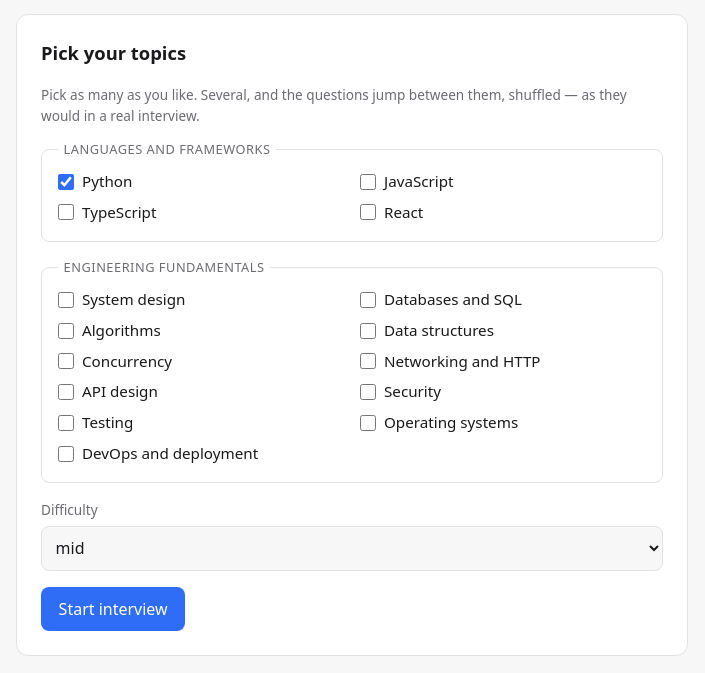
Test case: answering › submits the answer and shows the grade
(page scrolled)
Click the button "Start interview" at (113, 609), box [41,587,185,631]
(page scrolled)
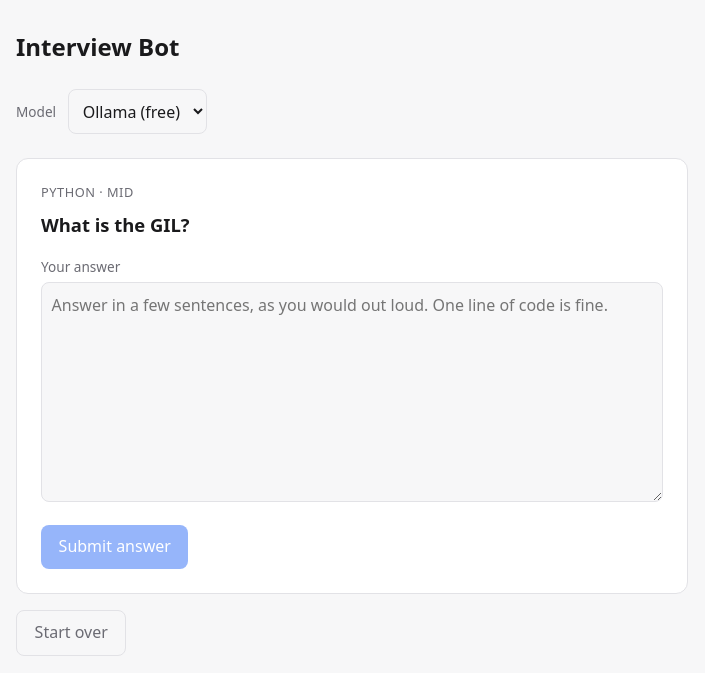
Check: the heading "What is the GIL?" is shown, box [41,212,190,237]
Type "It is a mutex." into the text box labelled "Your answer" at (352, 392), box [41,282,663,502]
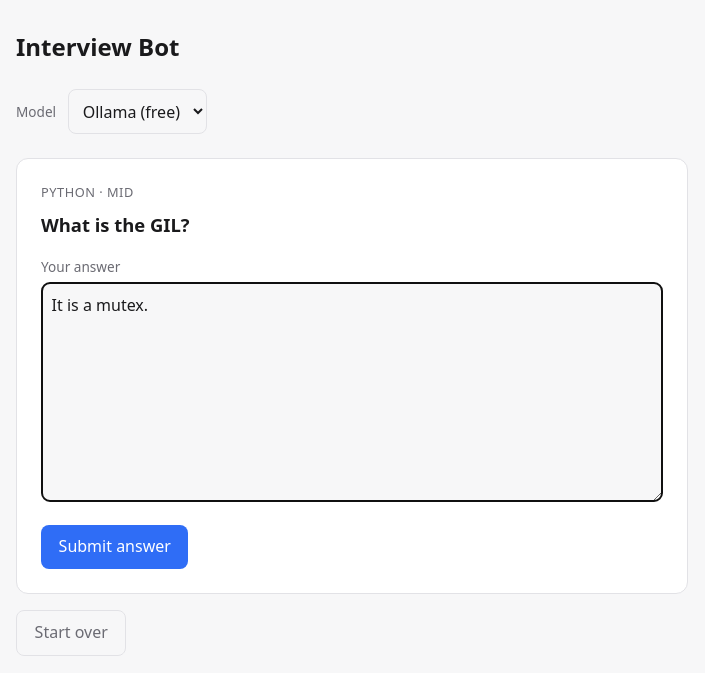
Click the button "Submit answer" at (115, 547), box [41,525,188,569]
(page scrolled)
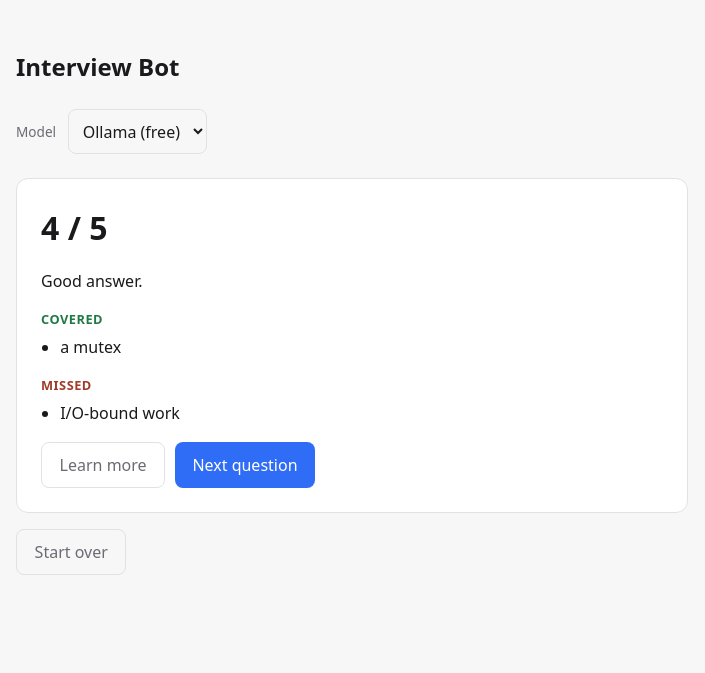
Check: the text with test id "score" reads "4 / 5", box [41,206,108,250]
Check: the text "Good answer." is shown, box [41,270,142,292]
Check: the list item "a mutex" is shown, box [60,336,121,358]
